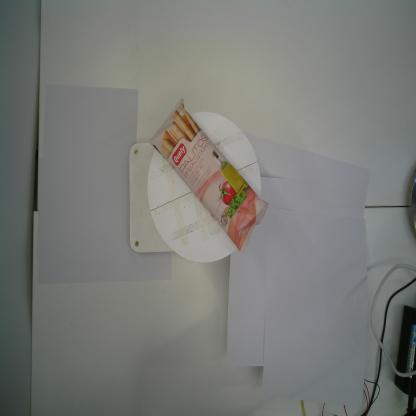Dessert: (146, 98, 269, 254)
